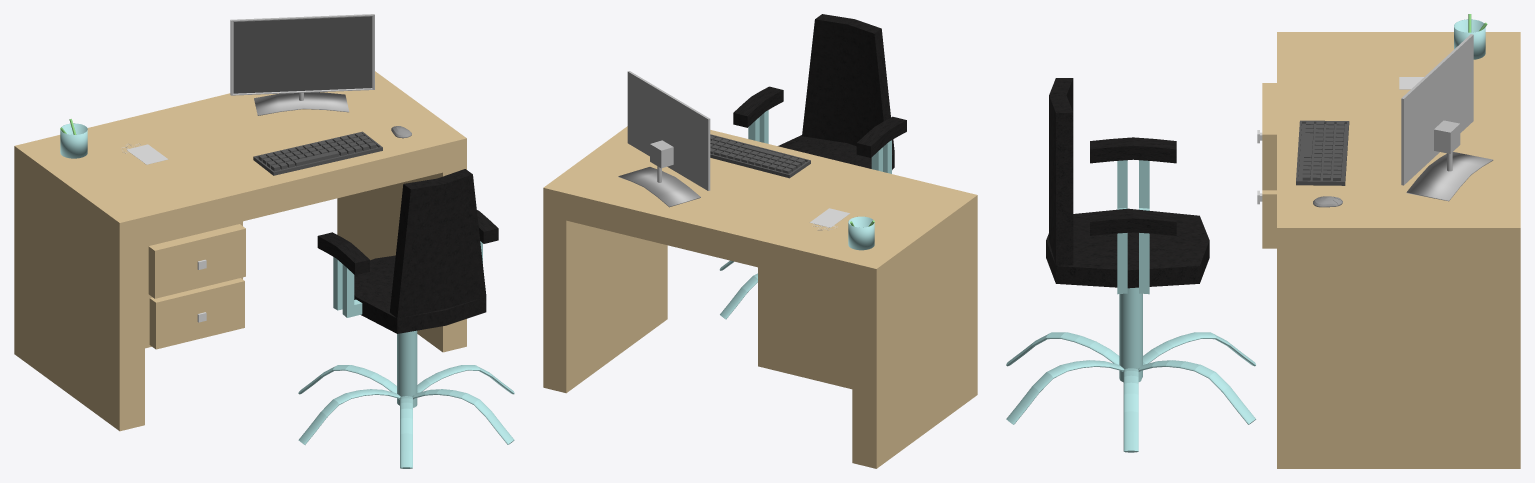
The model's file is mesaFbx.fbx.
The picture shows the model from 3 angles, left to right: view 1: azimuth 30°, elevation 25°; view 2: azimuth 150°, elevation 25°; view 3: azimuth 270°, elevation 25°; orthographic projection. The views are drawn at different scales.
Visible parts, largest first — view 1: Plane, Plane.009, Cylinder.002, Cylinder.006, Plane.007, Cube.001, Plane.006, Circle, Cube; view 2: Plane, Plane.009, Cylinder.002, Plane.007, Cube, Cube.001, Plane.006, Circle, Cylinder.006; view 3: Plane, Plane.009, Cylinder.002, Cylinder.006, Cube, Plane.007, Cube.001, Plane.006, Circle.
Part boxes in pixels (x1=…): Plane: x1=14, y1=71, x2=466, y2=431; Plane.009: x1=354, y1=169, x2=486, y2=407; Cylinder.002: x1=230, y1=14, x2=374, y2=100; Cylinder.006: x1=298, y1=365, x2=514, y2=468; Plane.007: x1=253, y1=131, x2=382, y2=175; Cube.001: x1=317, y1=232, x2=369, y2=317; Plane.006: x1=254, y1=92, x2=349, y2=115; Circle: x1=60, y1=123, x2=87, y2=158; Cube: x1=477, y1=210, x2=498, y2=263; Plane: x1=543, y1=126, x2=977, y2=468; Plane.009: x1=778, y1=14, x2=894, y2=169; Cylinder.002: x1=627, y1=71, x2=710, y2=190; Plane.007: x1=710, y1=134, x2=810, y2=178; Cube: x1=733, y1=86, x2=783, y2=143; Cube.001: x1=856, y1=116, x2=906, y2=173; Plane.006: x1=618, y1=167, x2=700, y2=207; Circle: x1=848, y1=216, x2=874, y2=250; Cylinder.006: x1=719, y1=260, x2=757, y2=319; Plane: x1=1257, y1=32, x2=1520, y2=468; Plane.009: x1=1046, y1=78, x2=1209, y2=382; Cylinder.002: x1=1401, y1=34, x2=1473, y2=185; Cylinder.006: x1=1006, y1=332, x2=1255, y2=452; Cube: x1=1090, y1=210, x2=1176, y2=294; Plane.007: x1=1296, y1=120, x2=1349, y2=185; Cube.001: x1=1090, y1=137, x2=1176, y2=210; Plane.006: x1=1406, y1=152, x2=1493, y2=201; Circle: x1=1454, y1=19, x2=1485, y2=59.
Bounding box in the file's own units: 200 × 166 × 222.
